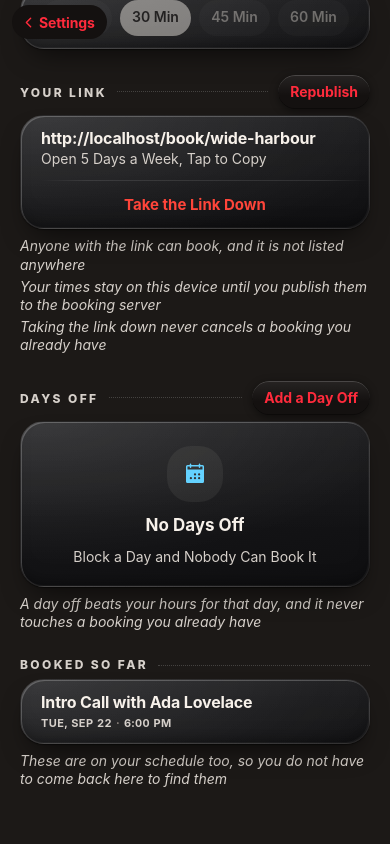
Test case: BookingPage › offers the guest's address, because writing to them is the other thing he might want
(page scrolled)
Click the text "Intro Call with Ada Lovelace". click: point(147, 702)
box: [41,692,252,712]
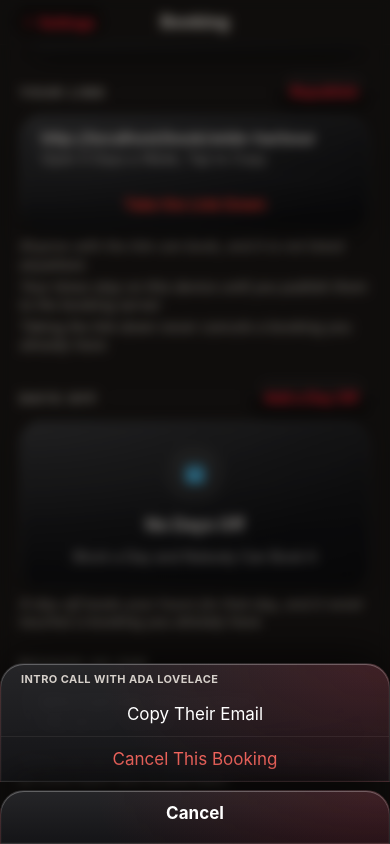
Expected: the button "Copy Their Email" is shown, [1,692,389,736]
